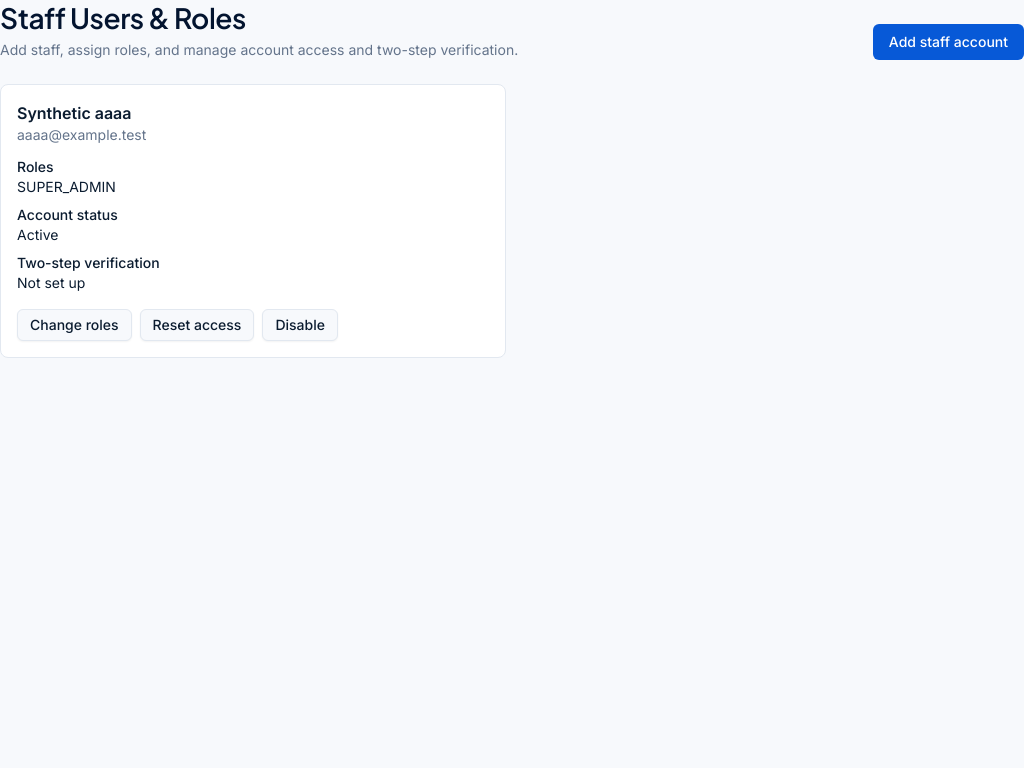
Test: staff users and roles › shows the server refusal instead of closing the dialog
Click the button "Change roles" at (74, 325), box top-left (17, 309), bottom-right (132, 341)
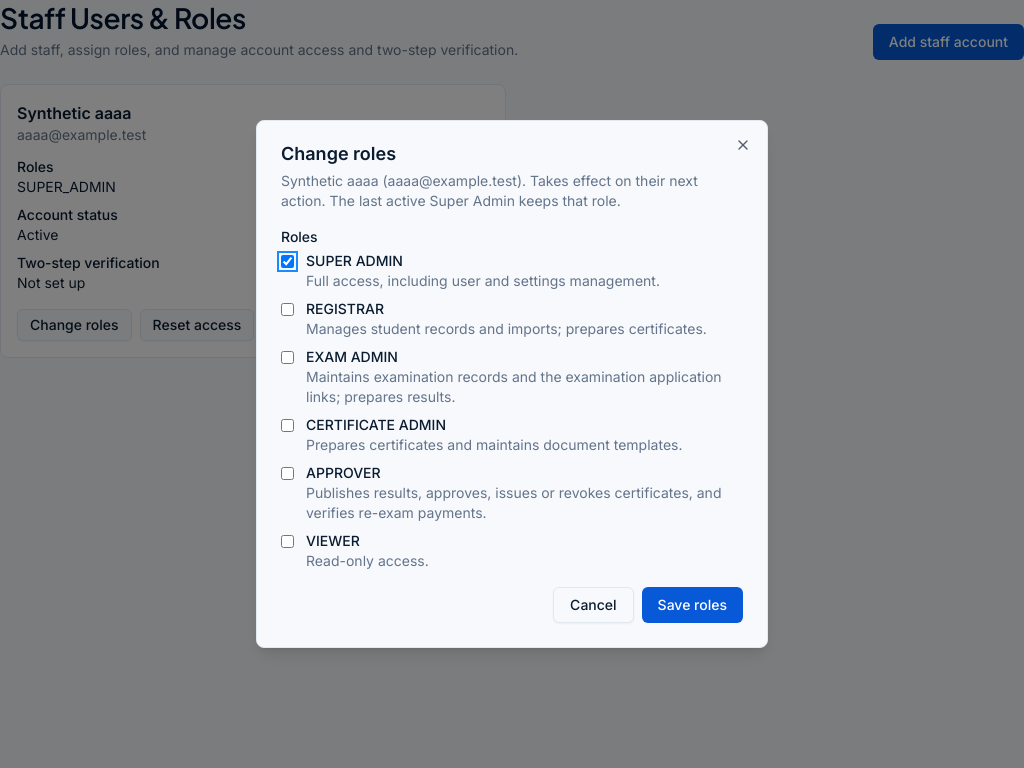
Click the checkbox labelled "SUPER ADMIN" at (288, 262), box top-left (281, 255), bottom-right (294, 268)
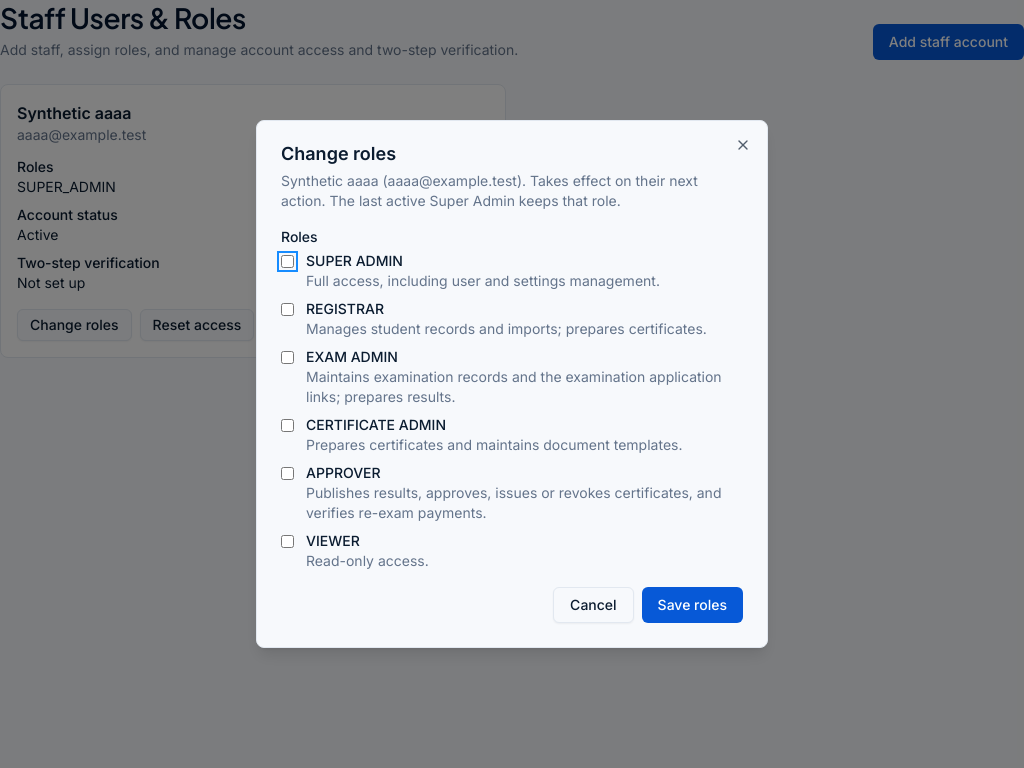
Click the checkbox labelled "VIEWER Read-only access." at (288, 542), box top-left (281, 535), bottom-right (294, 548)
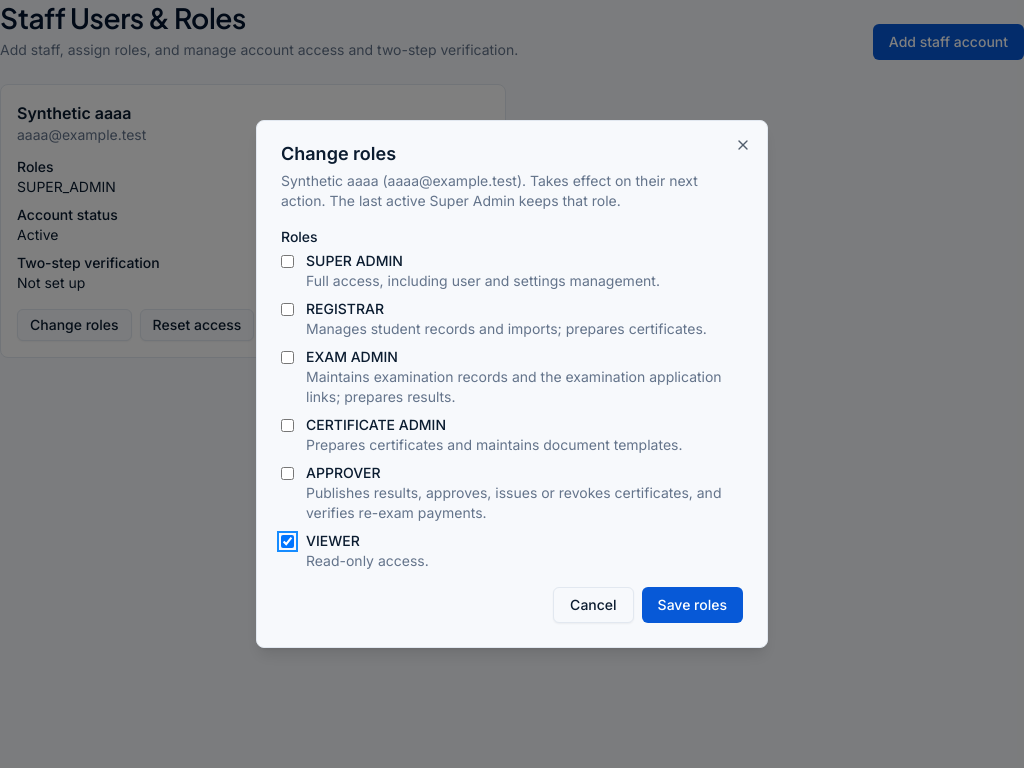
Click the button "Save roles" at (692, 605), box top-left (642, 587), bottom-right (743, 623)
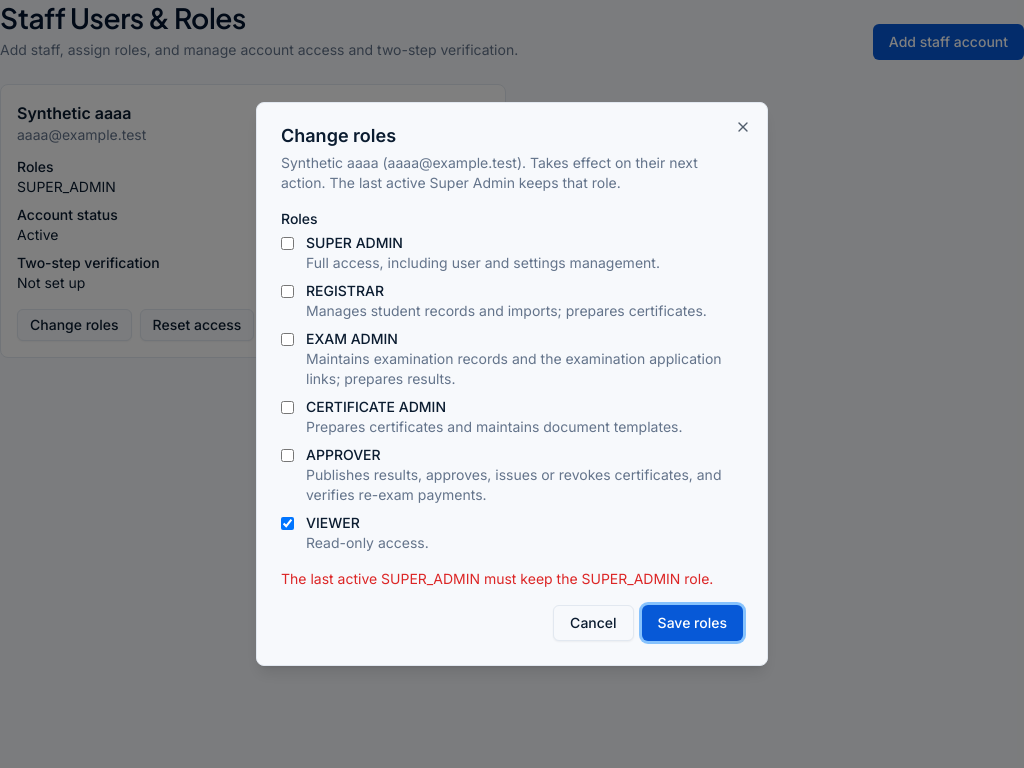
expect the dialog is shown: met, box top-left (256, 102), bottom-right (768, 666)
expect the message shows "last active SUPER_ADMIN": met, box top-left (281, 570), bottom-right (713, 587)
